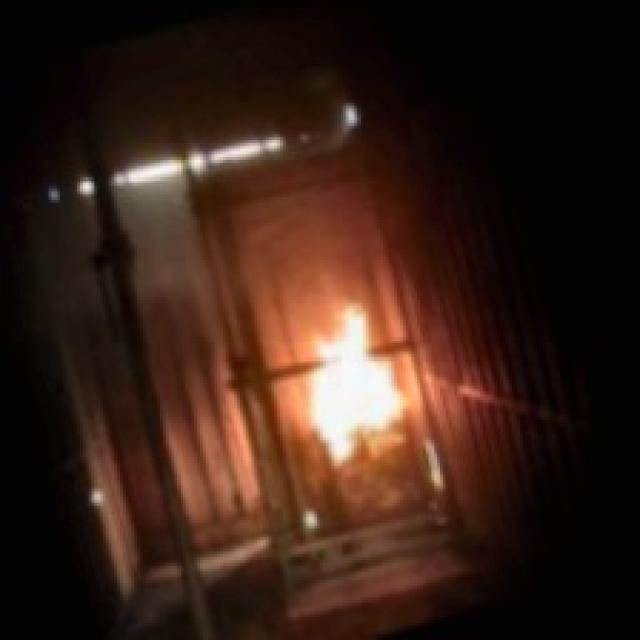fire: (273, 262, 418, 464)
